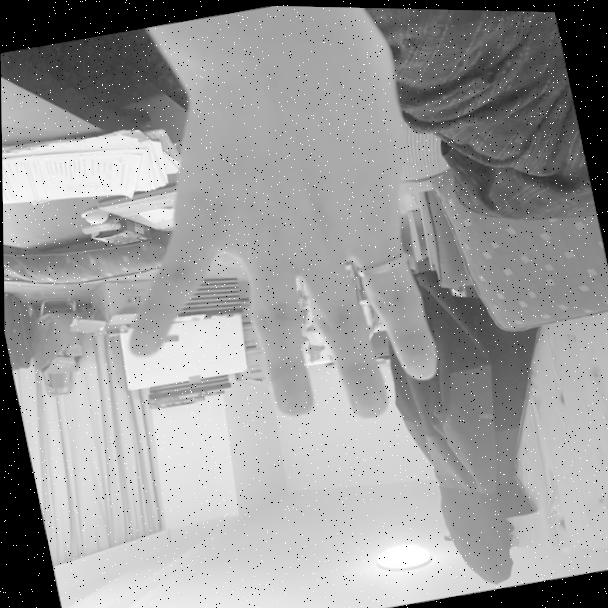four: (62, 1, 467, 470)
